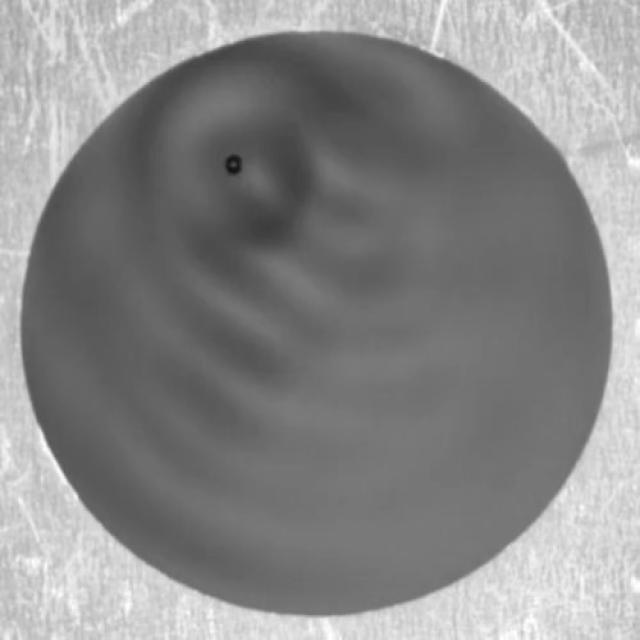droplet: (223, 152, 244, 178)
